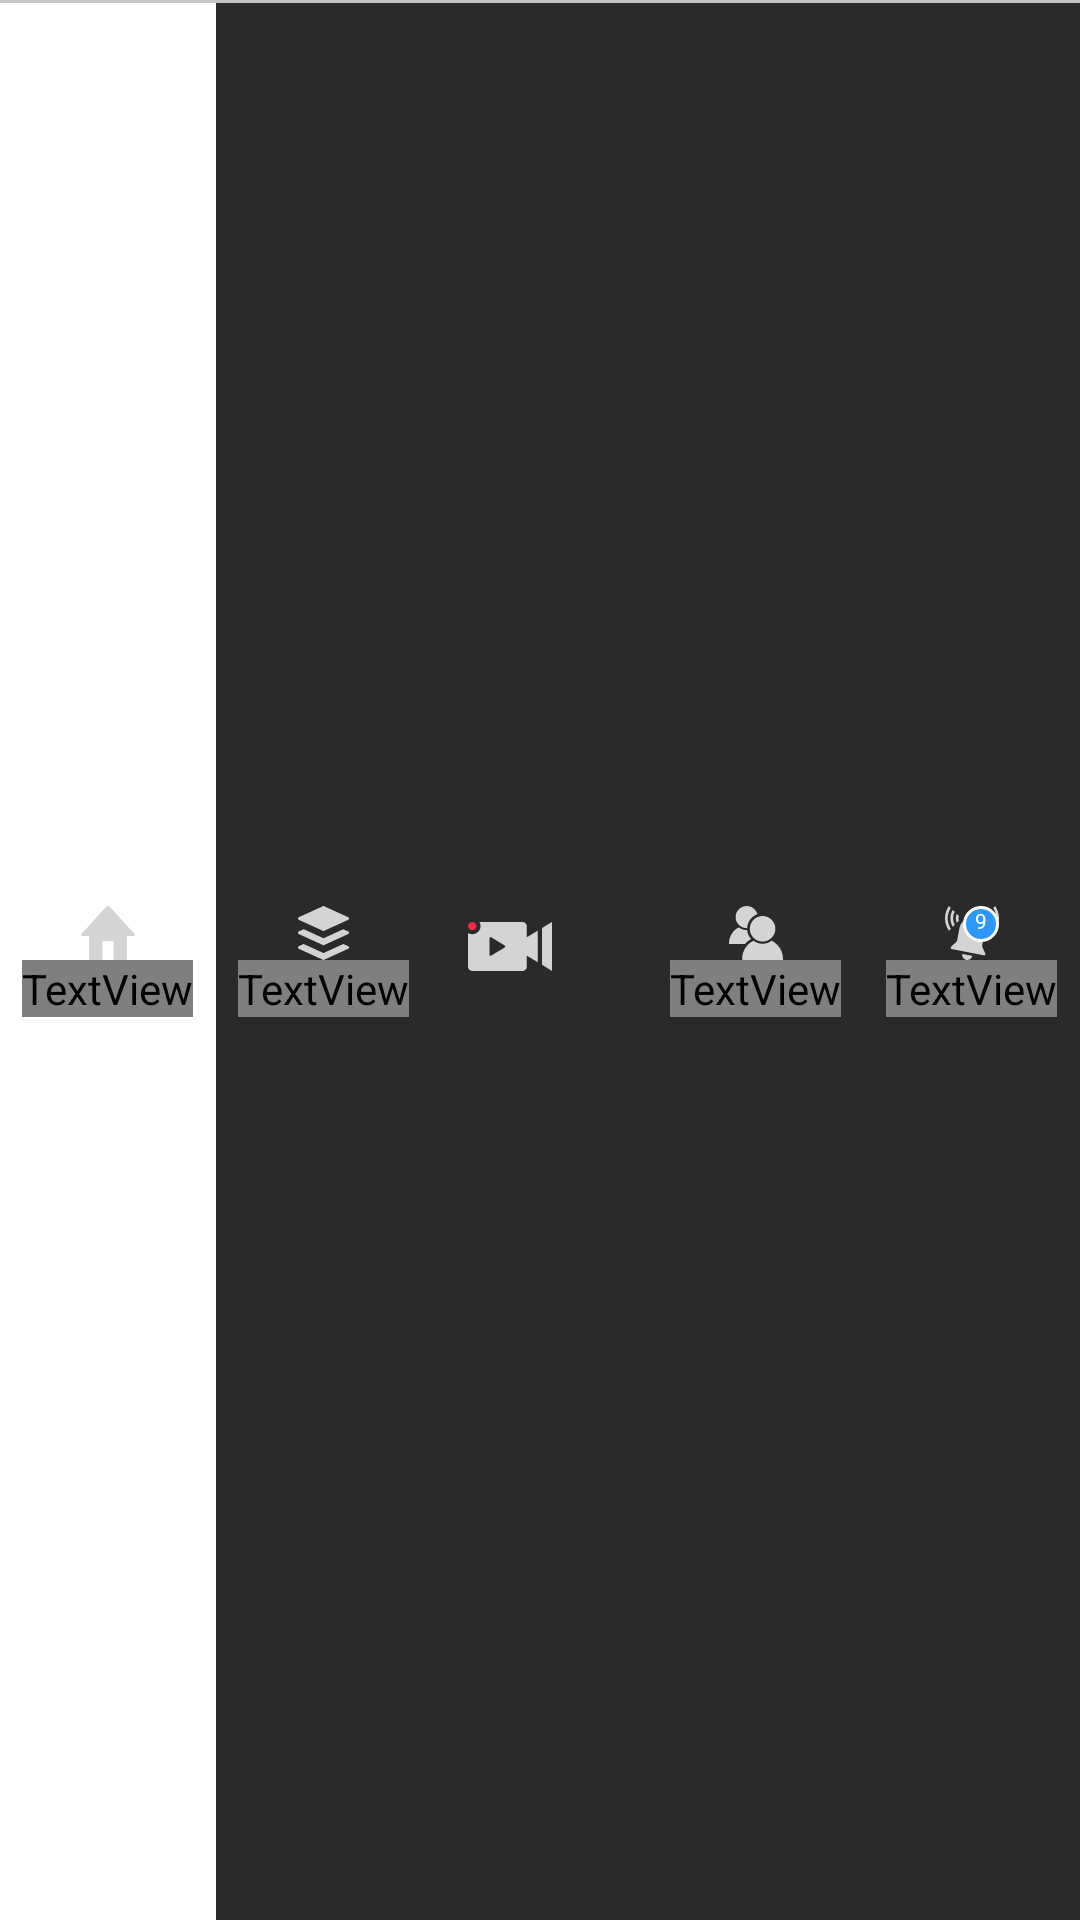

Icons on this 1080 x 1920 Android screen, each with its box as (x1, y1, x2, y2):
category: (298, 906, 349, 946)
Followers: (729, 906, 776, 944)
home: (81, 906, 135, 960)
notification: (945, 906, 999, 956)
Upload: (468, 922, 552, 971)
